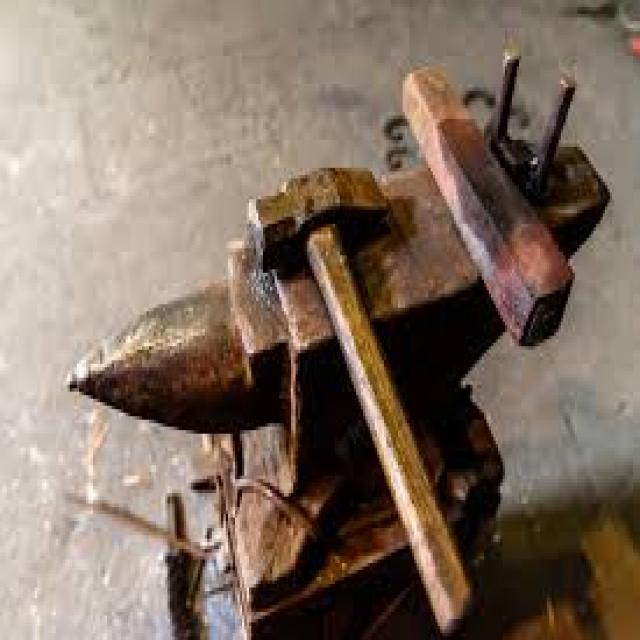hammer: (244, 161, 484, 640)
